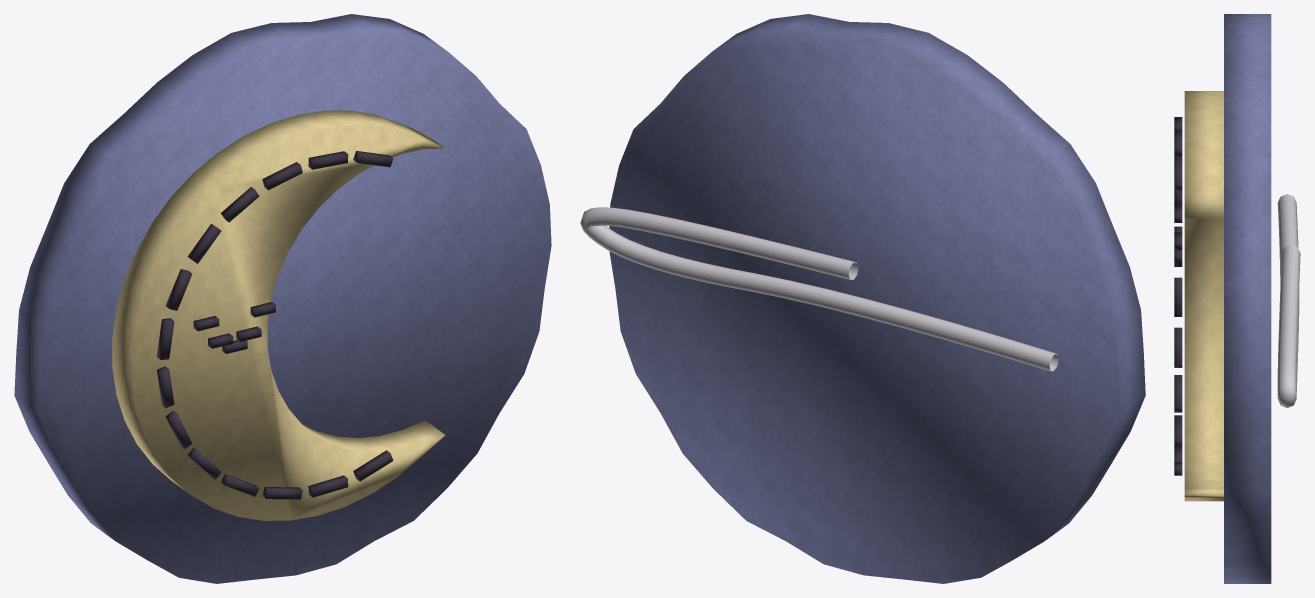
Rendered from moon_badge.glb.
The picture shows the model from 3 angles, left to right: view 1: azimuth 30°, elevation 25°; view 2: azimuth 150°, elevation 25°; view 3: azimuth 270°, elevation 25°; orthographic projection. The views are drawn at different scales.
Parts seen in each view (by area): view 1: moon_badge; view 2: moon_badge; view 3: moon_badge.
Boxes of the visible parts, x1=… form: moon_badge: x1=14, y1=14, x2=551, y2=583; moon_badge: x1=580, y1=14, x2=1145, y2=583; moon_badge: x1=1174, y1=14, x2=1300, y2=583.
Size of the model in its own units: 0.075 by 0.072 by 0.016.
4 materials, 2 textured.
